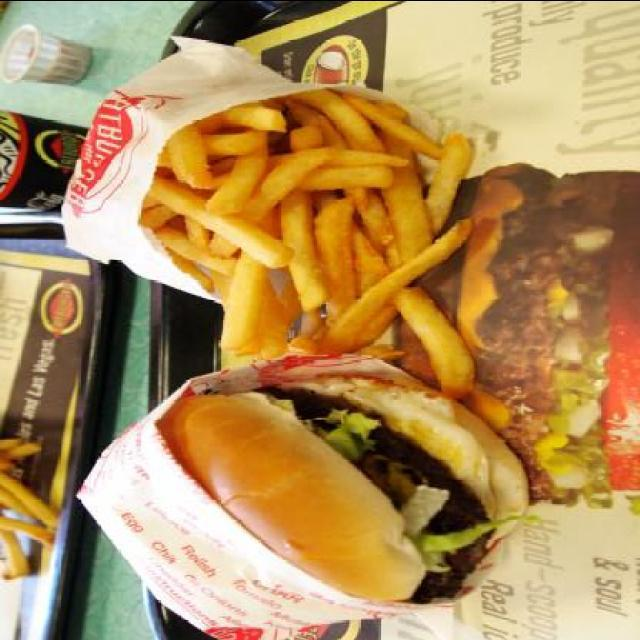Hamburger: (156, 370, 544, 602)
